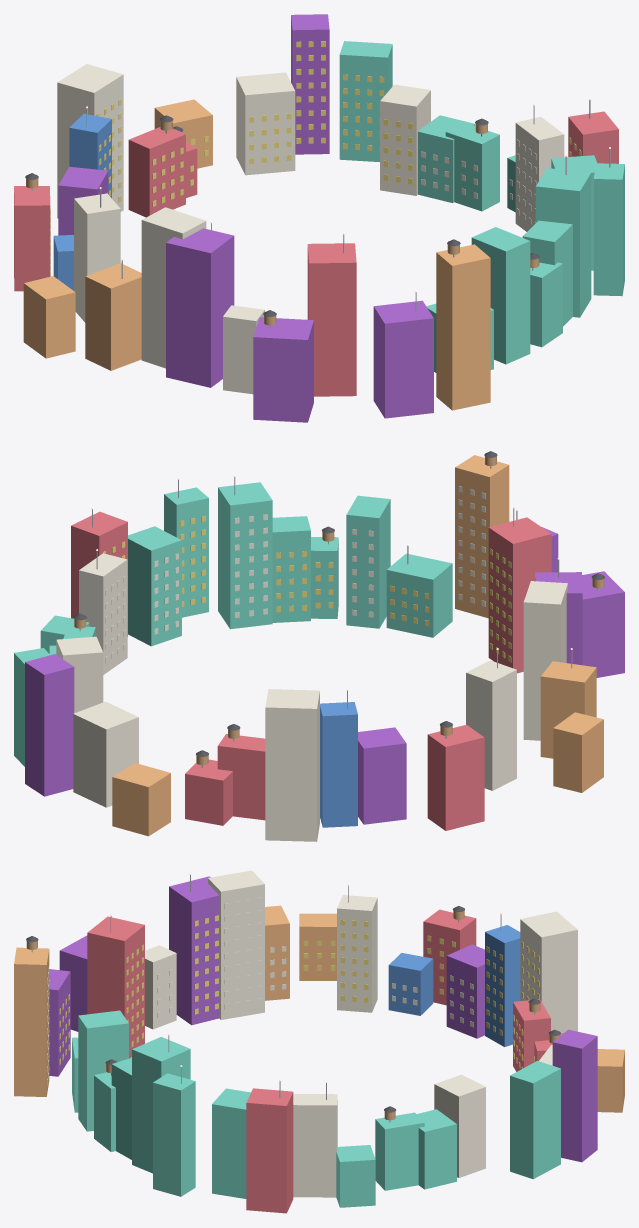
The model's file is city.glb.
3 renders of one model, top to bottom at view 1: azimuth 30°, elevation 25°; view 2: azimuth 150°, elevation 25°; view 3: azimuth 270°, elevation 25°, orthographic. The views are drawn at different scales.
Parts seen in each view (by area): view 1: city; view 2: city; view 3: city.
Part boxes in pixels (box(x1,y1,x2,y2)): city: box(14, 14, 624, 422); city: box(14, 451, 624, 841); city: box(14, 870, 624, 1213).
Size of the model in its own units: 92.14 by 25.9 by 96.8.
